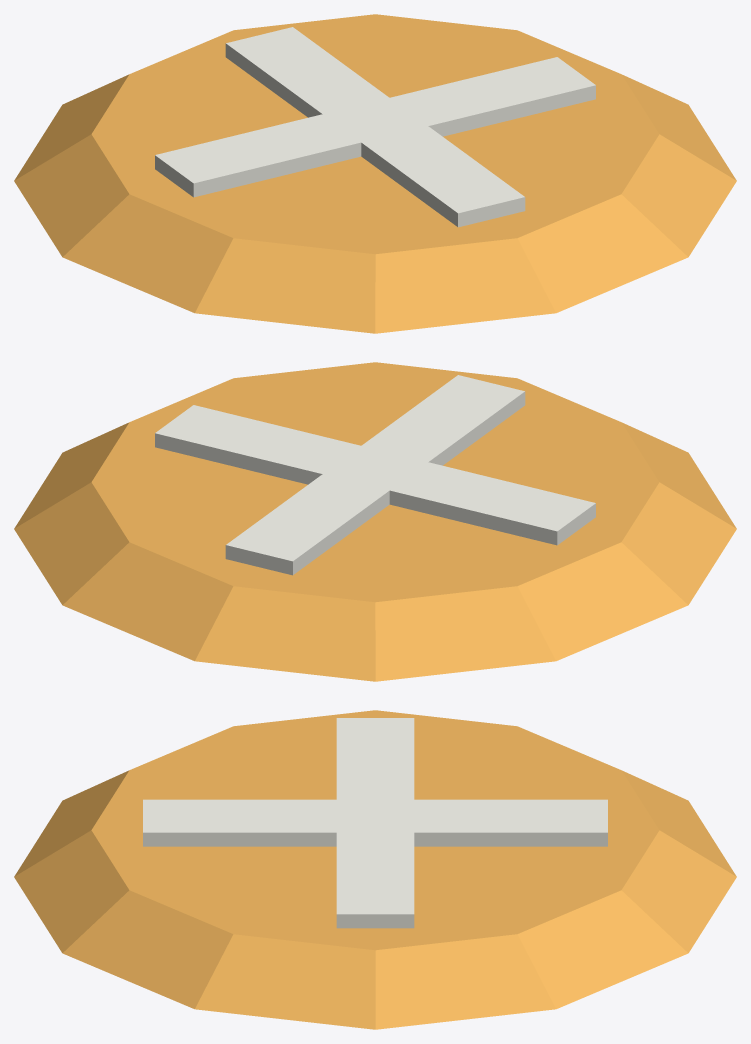
Rendered from american-football-stadium-kit-ball-spot-marker-8ed0ff2c__22327.glb.
The picture shows the model from 3 angles, top to bottom: view 1: azimuth 30°, elevation 25°; view 2: azimuth 150°, elevation 25°; view 3: azimuth 270°, elevation 25°; orthographic projection.
Visible parts, largest first — view 1: ball-spot-marker; view 2: ball-spot-marker; view 3: ball-spot-marker.
Part boxes in pixels (left/top/right/bottom): ball-spot-marker: left=14, top=14, right=736, bottom=333; ball-spot-marker: left=14, top=362, right=736, bottom=681; ball-spot-marker: left=14, top=710, right=736, bottom=1029.
Bounding box in the file's own units: 0.28 × 0.026 × 0.28.
